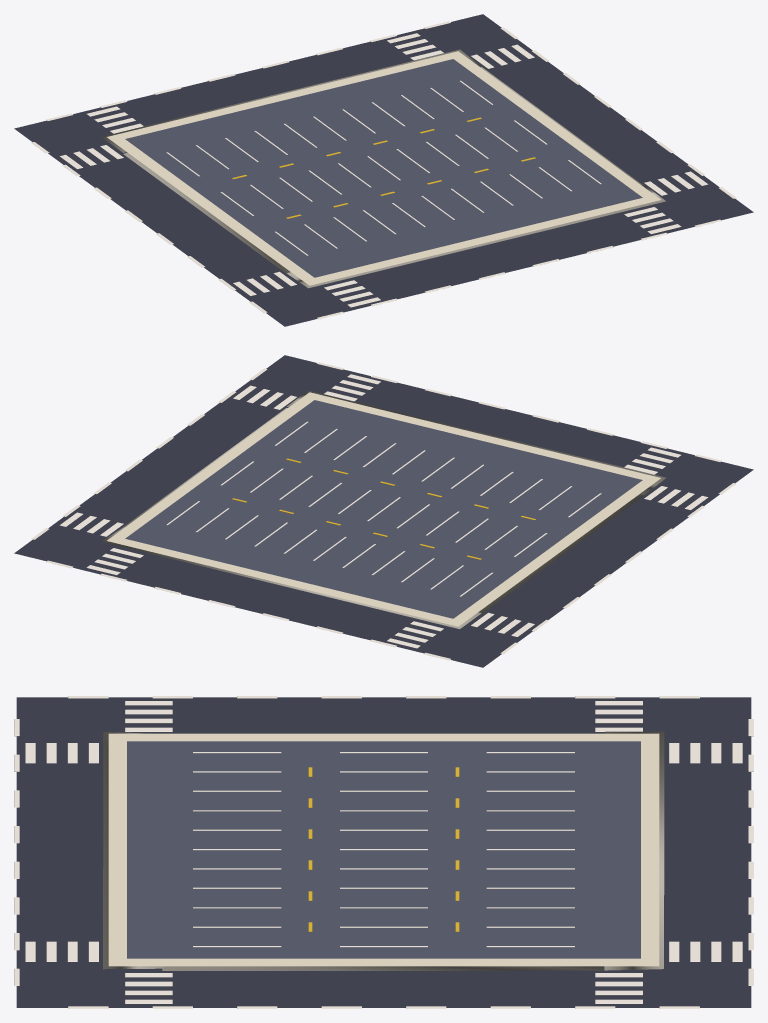
Rendered from tile_parking.glb.
3 views of the same model, one above another, from view 1: azimuth 30°, elevation 25°; view 2: azimuth 150°, elevation 25°; view 3: azimuth 270°, elevation 25° (orthographic). The views are drawn at different scales.
Parts seen in each view (by area): view 1: tile_parking; view 2: tile_parking; view 3: tile_parking.
Part boxes in pixels (x1=…): tile_parking: x1=14, y1=14, x2=753, y2=326; tile_parking: x1=14, y1=355, x2=753, y2=667; tile_parking: x1=14, y1=696, x2=753, y2=1008.
Size of the model in its own units: 40.3 by 0.1919 by 40.3.
1 material, 1 textured.
